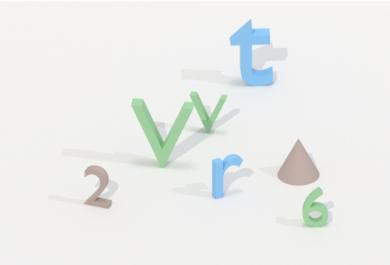0-TamGiac: (276, 137, 322, 186)
2: (82, 163, 114, 211)
6: (301, 186, 329, 231)
V: (128, 96, 196, 170), (188, 89, 231, 137)
r: (209, 150, 244, 201)
t: (227, 15, 279, 89)
